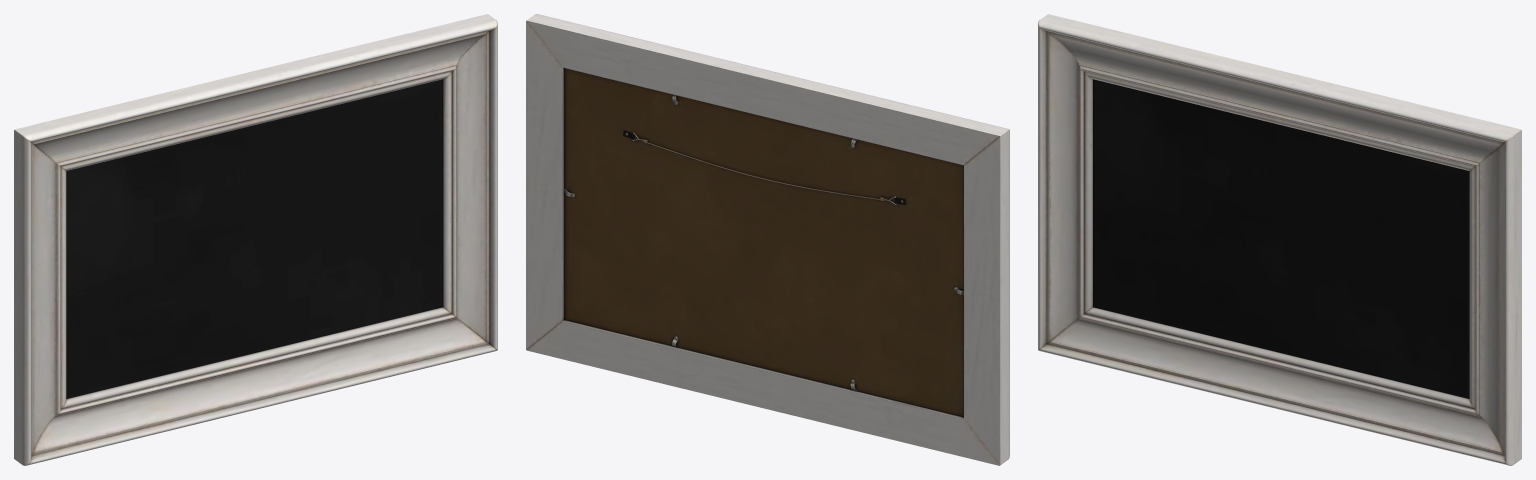
The model's file is hanging_picture_frame_02.glb.
The picture shows the model from 3 angles, left to right: view 1: azimuth 30°, elevation 25°; view 2: azimuth 150°, elevation 25°; view 3: azimuth 330°, elevation 25°; orthographic projection.
Parts seen in each view (by area): view 1: hanging_picture_frame_02; view 2: hanging_picture_frame_02; view 3: hanging_picture_frame_02.
Boxes of the visible parts, x1=… form: hanging_picture_frame_02: x1=14, y1=14, x2=497, y2=465; hanging_picture_frame_02: x1=526, y1=14, x2=1009, y2=465; hanging_picture_frame_02: x1=1038, y1=14, x2=1521, y2=465.
Bounding box in the file's own units: 0.7518 × 0.5 × 0.033.
Materials: 3 (3 with a texture image).
